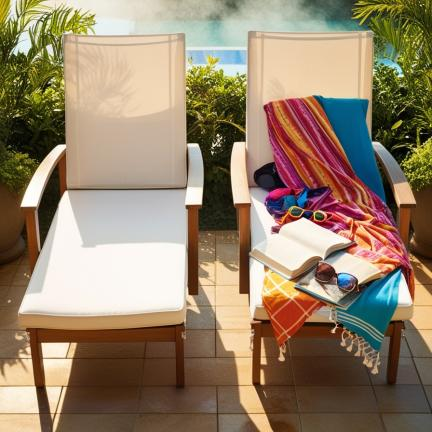empty chair: (19, 34, 203, 386)
occupied chair: (231, 31, 415, 384)
